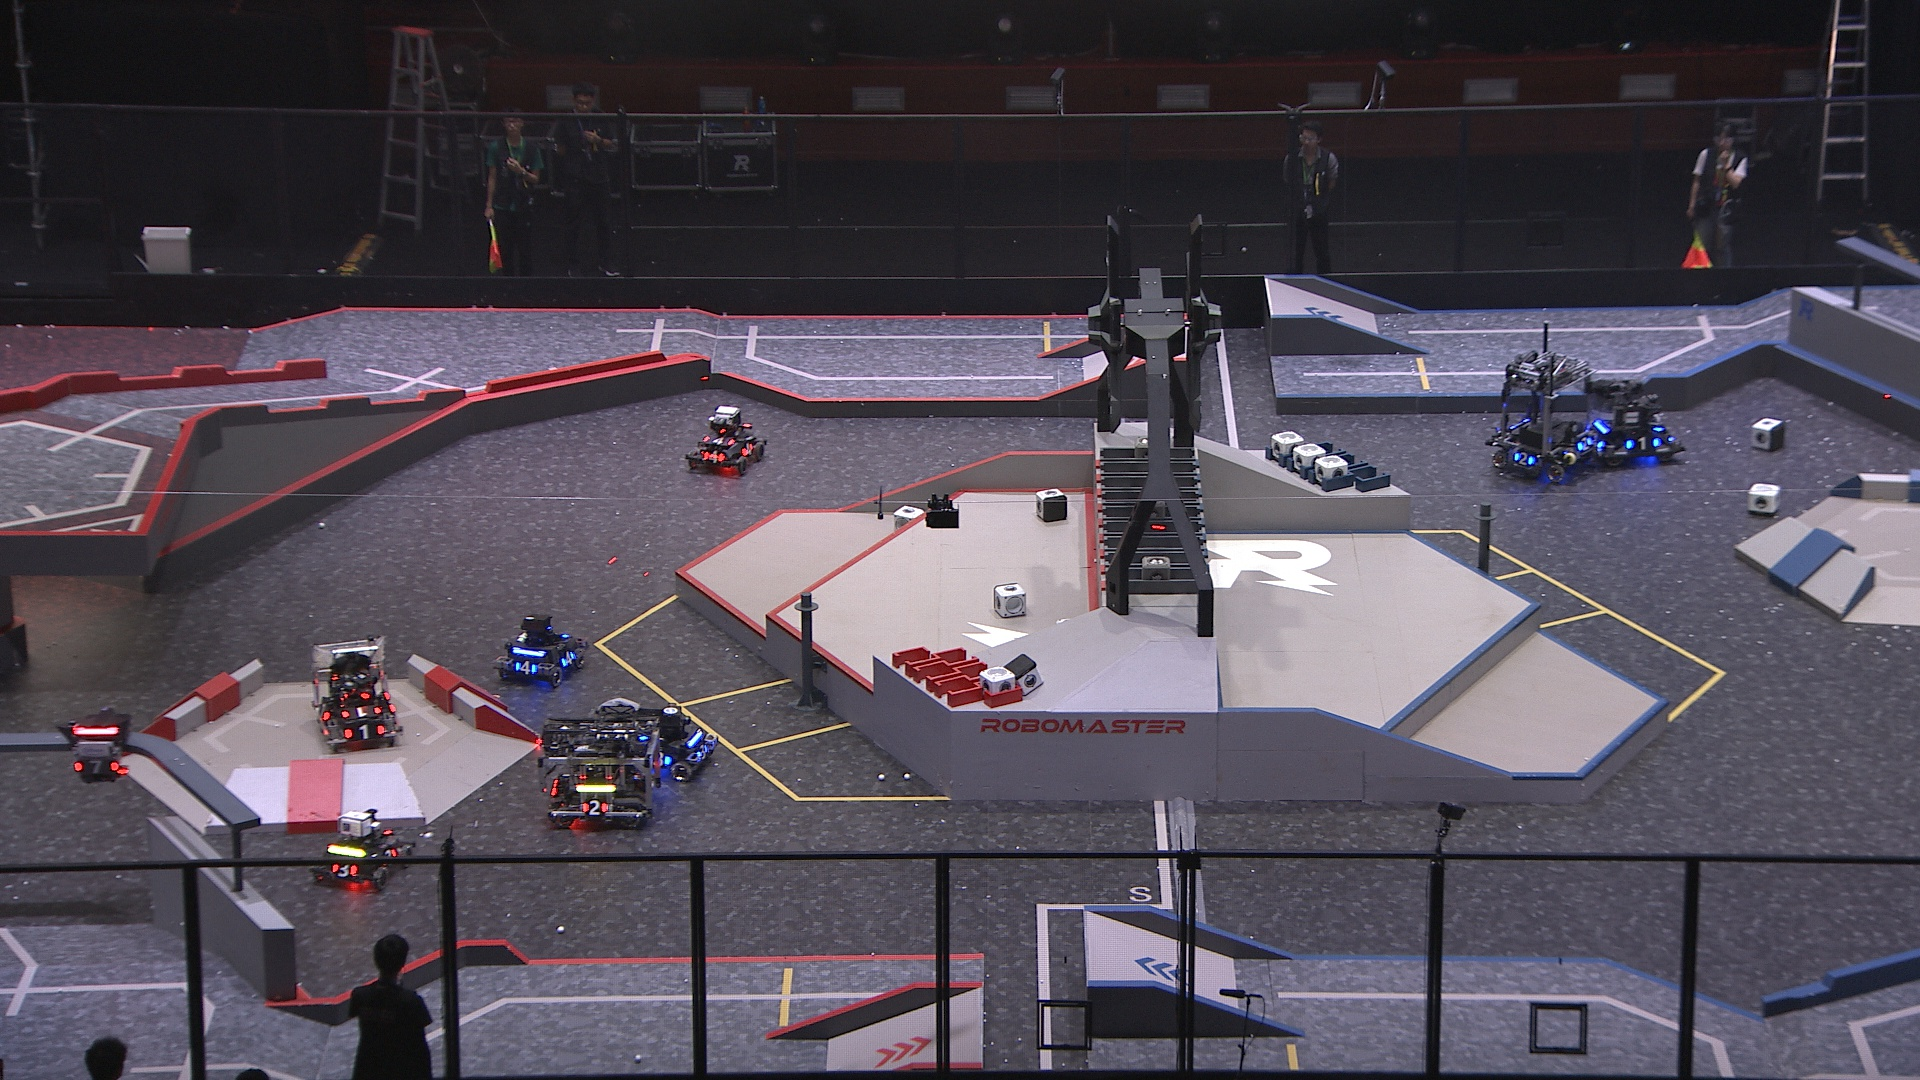armor: (340, 723, 386, 742), (73, 757, 121, 775), (340, 704, 384, 721), (1626, 434, 1662, 451), (580, 799, 612, 816), (327, 862, 357, 880), (1513, 450, 1538, 469), (700, 448, 727, 465), (1575, 433, 1596, 452), (514, 659, 538, 676), (702, 434, 736, 446), (318, 700, 332, 723), (560, 650, 576, 669), (694, 742, 709, 761), (655, 752, 671, 769), (740, 440, 756, 458)
car: (539, 703, 665, 829), (1484, 348, 1596, 484), (309, 636, 404, 750), (1582, 376, 1688, 469), (310, 808, 418, 891), (621, 702, 716, 782), (491, 612, 585, 688), (684, 404, 769, 477)
watcher: (58, 709, 131, 785)
